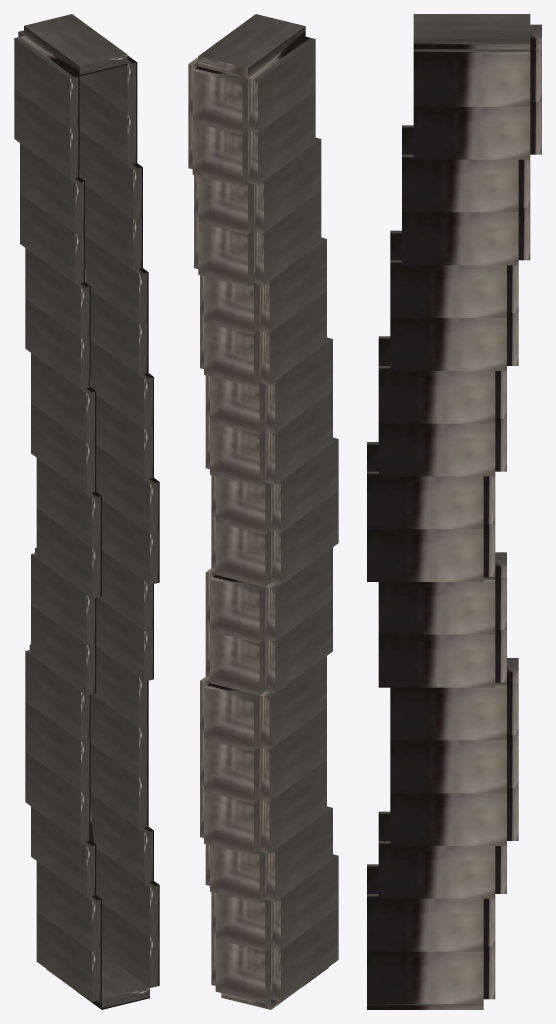
File: payloadsmall1.glb
3 views of the same model, side by side, from view 1: azimuth 30°, elevation 25°; view 2: azimuth 150°, elevation 25°; view 3: azimuth 270°, elevation 25° (orthographic). The views are drawn at different scales.
Visible parts, largest first — view 1: Cube.6981, Cube.7018, Cube.6987, Cube.6985, Cube.6989, Cube.6997, Cube.6995, Cube.6983, Cube.6994, Cube.6996, Cube.6986, Cube.6992 (+26 smaller); view 2: Cube.6981, Cube.7018, Cube.6993, Cube.6991, Cube.6992, Cube.6982, Cube.6984, Cube.6994, Cube.6996, Cube.6988, Cube.6990, Cube.6998 (+26 smaller); view 3: Cube.6999, Cube.7001, Cube.7007, Cube.7011, Cube.7010, Cube.7006, Cube.7013, Cube.7005, Cube.7009, Cube.7015, Cube.7002, Cube.7012 (+26 smaller).
Boxes of the visible parts, bbox=[...] form: Cube.6981: bbox=[14, 36, 79, 128]; Cube.7018: bbox=[24, 14, 127, 76]; Cube.6987: bbox=[31, 353, 96, 443]; Cube.6985: bbox=[25, 248, 90, 338]; Cube.6989: bbox=[36, 458, 101, 548]; Cube.6997: bbox=[31, 806, 96, 897]; Cube.6995: bbox=[36, 861, 101, 951]; Cube.6983: bbox=[20, 143, 84, 233]; Cube.6994: bbox=[25, 701, 90, 792]; Cube.6996: bbox=[36, 911, 101, 1002]; Cube.6986: bbox=[25, 298, 90, 389]; Cube.6992: bbox=[31, 605, 96, 695]; Cube.6981: bbox=[248, 36, 315, 132]; Cube.7018: bbox=[198, 14, 305, 78]; Cube.6993: bbox=[259, 656, 326, 749]; Cube.6991: bbox=[265, 547, 332, 641]; Cube.6992: bbox=[265, 599, 332, 693]; Cube.6982: bbox=[248, 91, 315, 184]; Cube.6984: bbox=[254, 191, 321, 285]; Cube.6994: bbox=[259, 708, 326, 801]; Cube.6996: bbox=[271, 908, 338, 1001]; Cube.6988: bbox=[265, 391, 332, 484]; Cube.6990: bbox=[271, 491, 338, 584]; Cube.6998: bbox=[259, 760, 326, 853]; Cube.6999: bbox=[413, 49, 530, 106]; Cube.7001: bbox=[402, 154, 518, 212]; Cube.7007: bbox=[367, 471, 483, 529]; Cube.7011: bbox=[390, 682, 506, 740]; Cube.7010: bbox=[378, 634, 495, 687]; Cube.7006: bbox=[378, 423, 495, 476]; Cube.7013: bbox=[367, 894, 483, 951]; Cube.7005: bbox=[378, 366, 495, 423]; Cube.7009: bbox=[378, 577, 495, 634]; Cube.7015: bbox=[378, 841, 495, 898]; Cube.7002: bbox=[402, 212, 518, 265]; Cube.7012: bbox=[390, 740, 506, 793].
Bounding box in the file's own units: 140 × 1840 × 300.
Materials: 1 (1 with a texture image).
